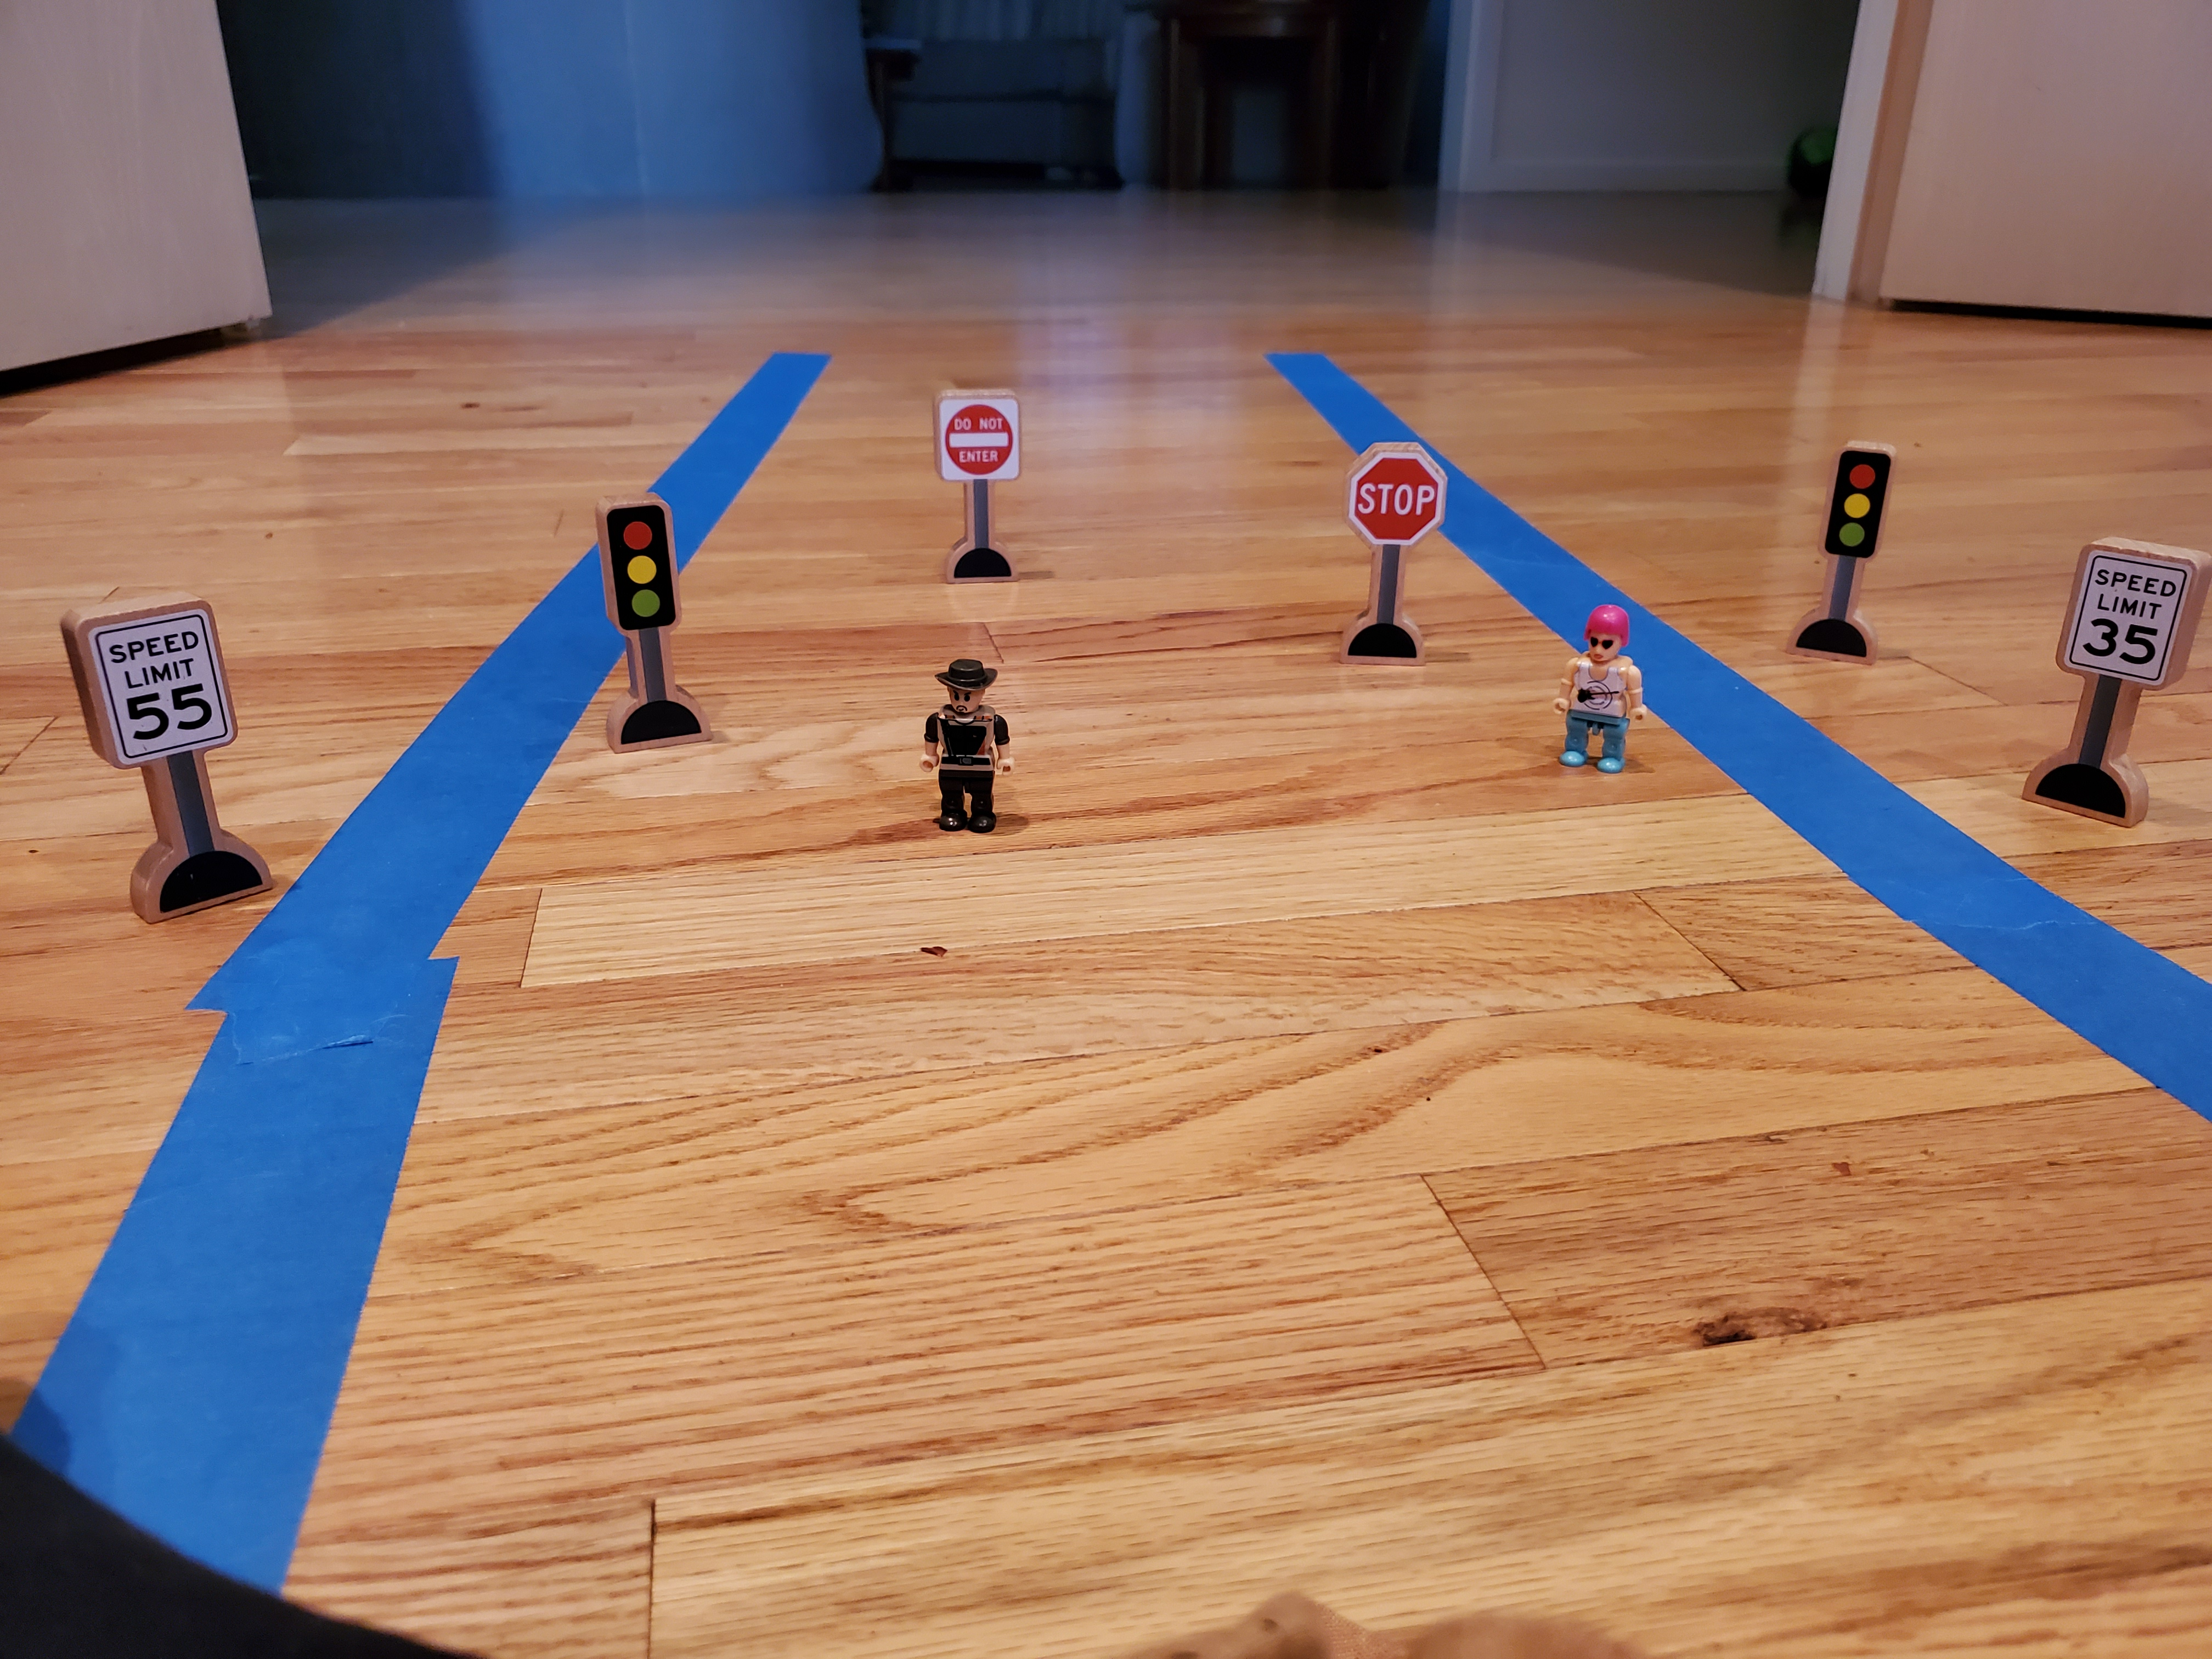Do Not Enter: (921, 376, 1031, 494)
Red Traffic Light: (584, 488, 692, 644), (1810, 430, 1903, 578)
Speed Limit 35: (2050, 520, 2208, 707)
Speed Limit 55: (53, 597, 256, 773)
Stop Sign: (1332, 442, 1468, 564)
person: (908, 651, 1031, 842), (1545, 597, 1658, 781)
